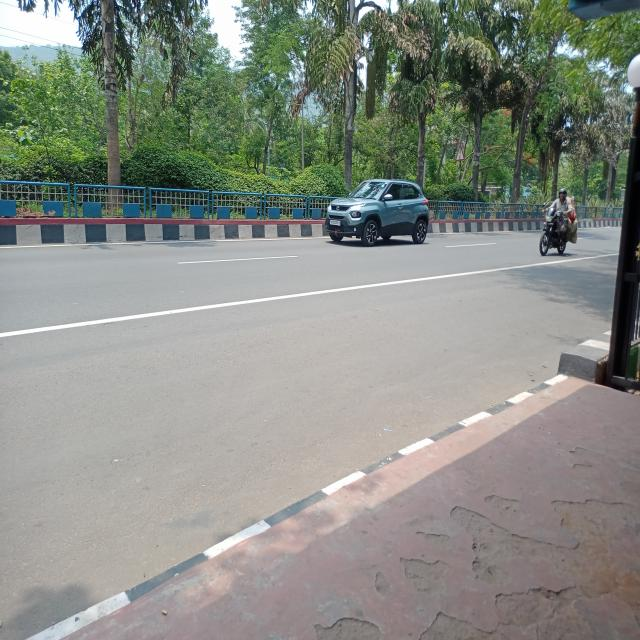bike: (538, 202, 574, 256)
car: (321, 163, 434, 258)
